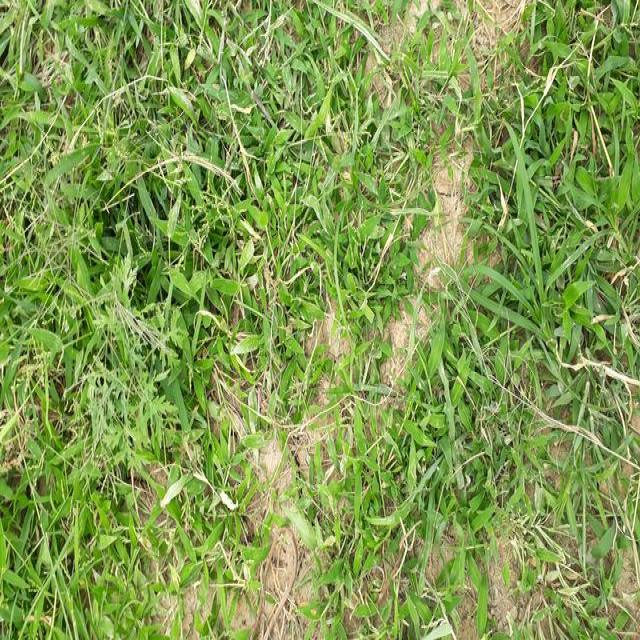weed: (0, 4, 257, 526), (154, 46, 426, 319), (489, 138, 610, 466), (378, 353, 492, 538), (521, 476, 640, 640), (529, 11, 640, 156), (9, 515, 137, 640), (298, 435, 387, 599), (166, 520, 264, 638), (431, 16, 502, 151), (407, 548, 492, 638), (266, 334, 328, 404)
